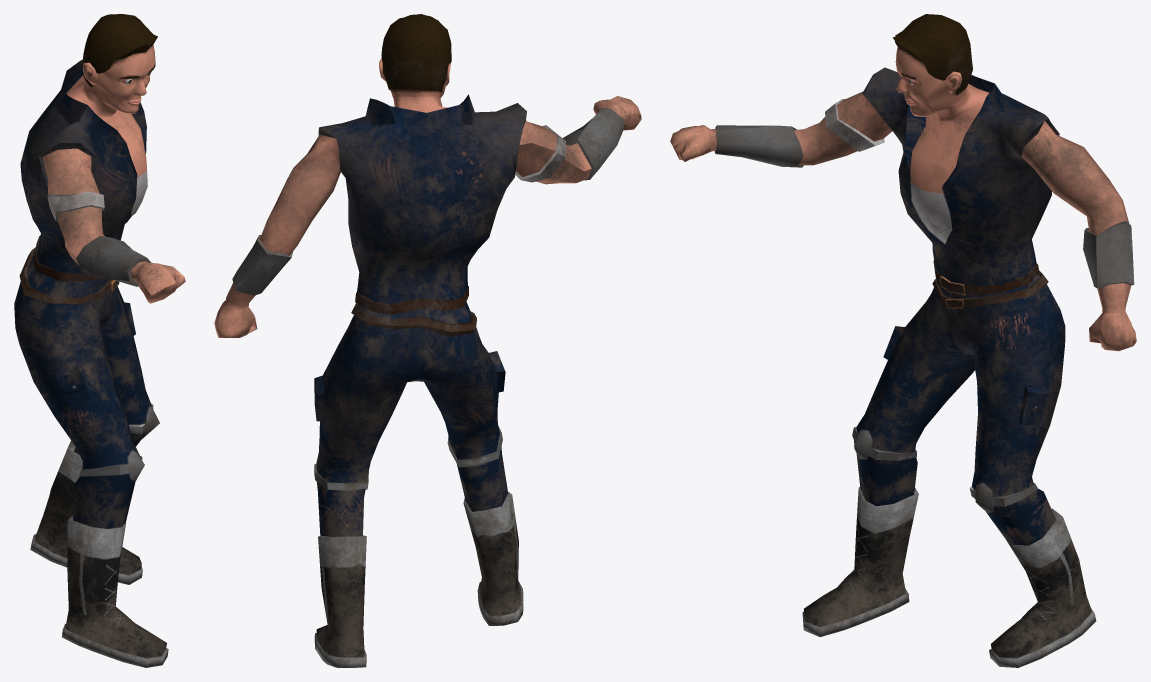
File: Anim_abrir_puerta_ok_jugador.0022.obj
The picture shows the model from 3 angles, left to right: view 1: azimuth 30°, elevation 25°; view 2: azimuth 150°, elevation 25°; view 3: azimuth 270°, elevation 25°; orthographic projection. The views are drawn at different scales.
Parts seen in each view (by area): view 1: polySurface1; view 2: polySurface1; view 3: polySurface1.
Part boxes in pixels (<box>): polySurface1: <box>14,14,185,667</box>; polySurface1: <box>214,14,641,667</box>; polySurface1: <box>670,14,1136,667</box>.
Bounding box in the file's own units: 3.5 × 9.29 × 6.31.
